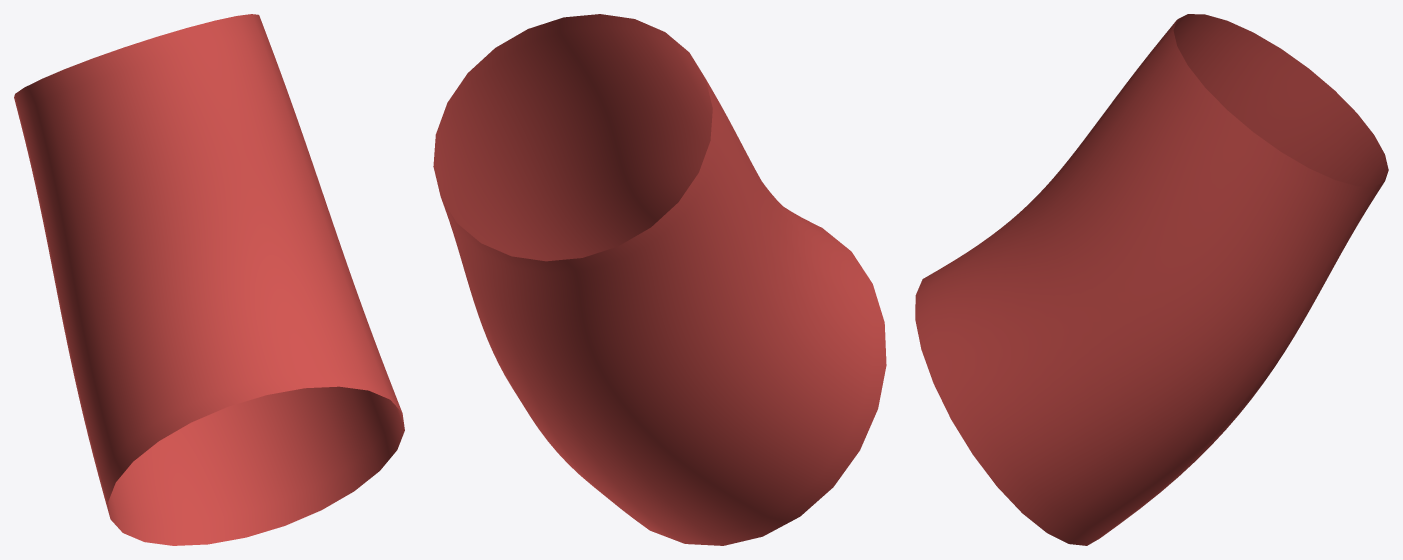
The picture shows the model from 3 angles, left to right: view 1: azimuth 30°, elevation 25°; view 2: azimuth 150°, elevation 25°; view 3: azimuth 270°, elevation 25°; orthographic projection. The views are drawn at different scales.
Visible parts, largest first — view 1: 左侧髂内动脉后干; view 2: 左侧髂内动脉后干; view 3: 左侧髂内动脉后干.
Part boxes in pixels (left/top/right/bottom): 左侧髂内动脉后干: left=14, top=14, right=404, bottom=545; 左侧髂内动脉后干: left=433, top=14, right=886, bottom=545; 左侧髂内动脉后干: left=915, top=14, right=1388, bottom=545.
Size of the model in its own units: 0.00859 by 0.0147 by 0.0126.
